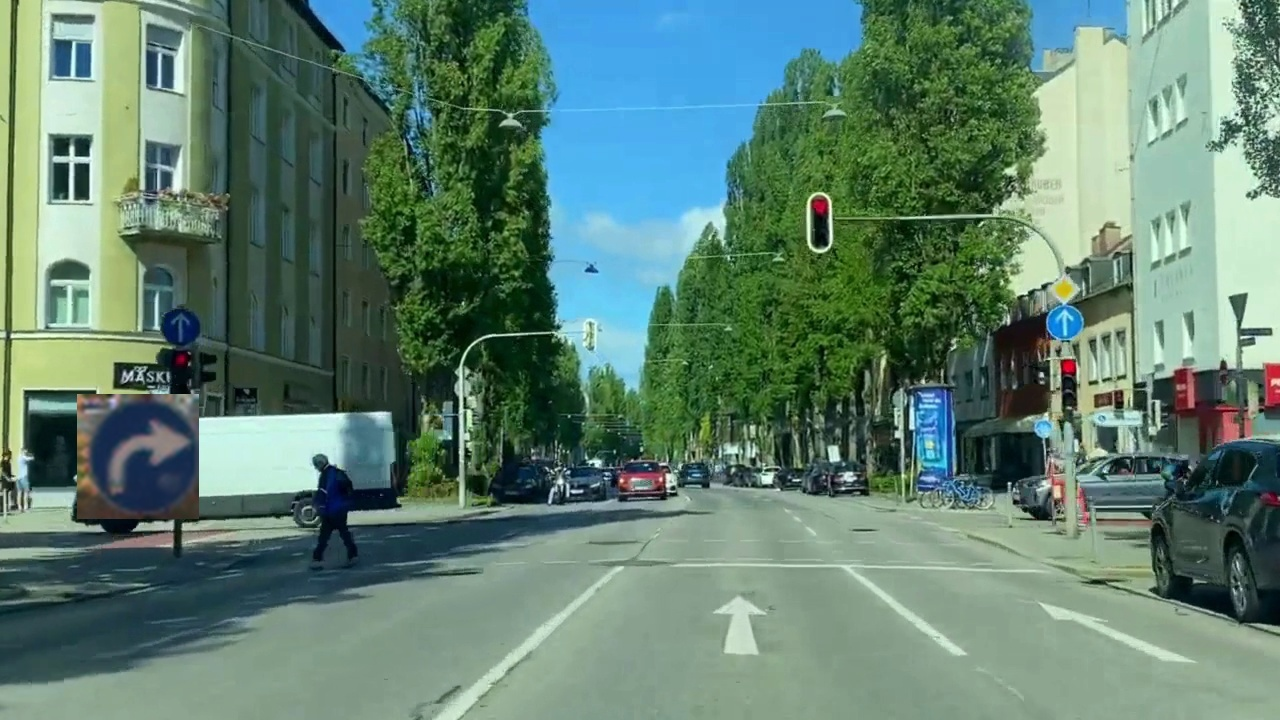Turn right: (77, 394, 199, 519)
